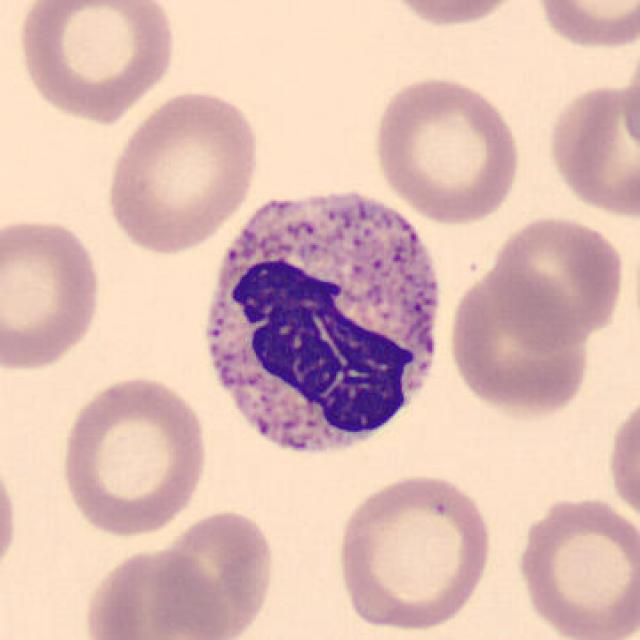Neutrophil: (189, 173, 455, 476)
RBC: (99, 86, 265, 258), (331, 469, 496, 635), (55, 370, 212, 540), (368, 72, 524, 226), (444, 266, 596, 420), (12, 0, 182, 125), (487, 212, 628, 349), (510, 492, 638, 640), (148, 506, 279, 640), (0, 212, 105, 374), (80, 545, 229, 640), (542, 78, 638, 220), (530, 0, 638, 51), (602, 388, 640, 531), (378, 0, 530, 30), (0, 446, 23, 589), (618, 39, 640, 164)
